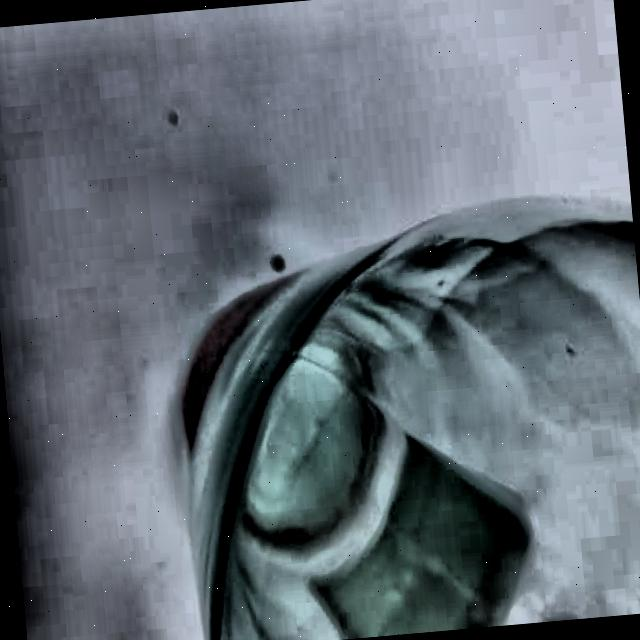glass: (152, 188, 640, 640)
